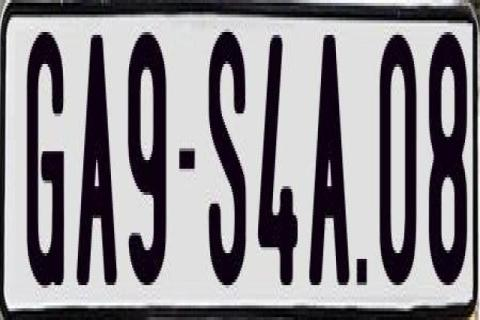0: (126, 26, 172, 294), (376, 29, 418, 294), (258, 35, 301, 291), (428, 26, 466, 294)
A: (308, 29, 350, 288), (77, 26, 118, 276)
G: (25, 24, 68, 288)
S: (208, 26, 252, 288)
